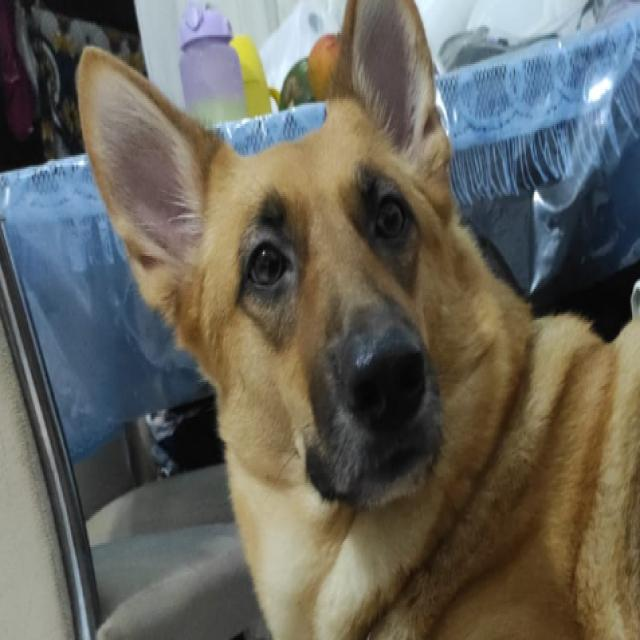cachorro: (69, 5, 640, 640)
